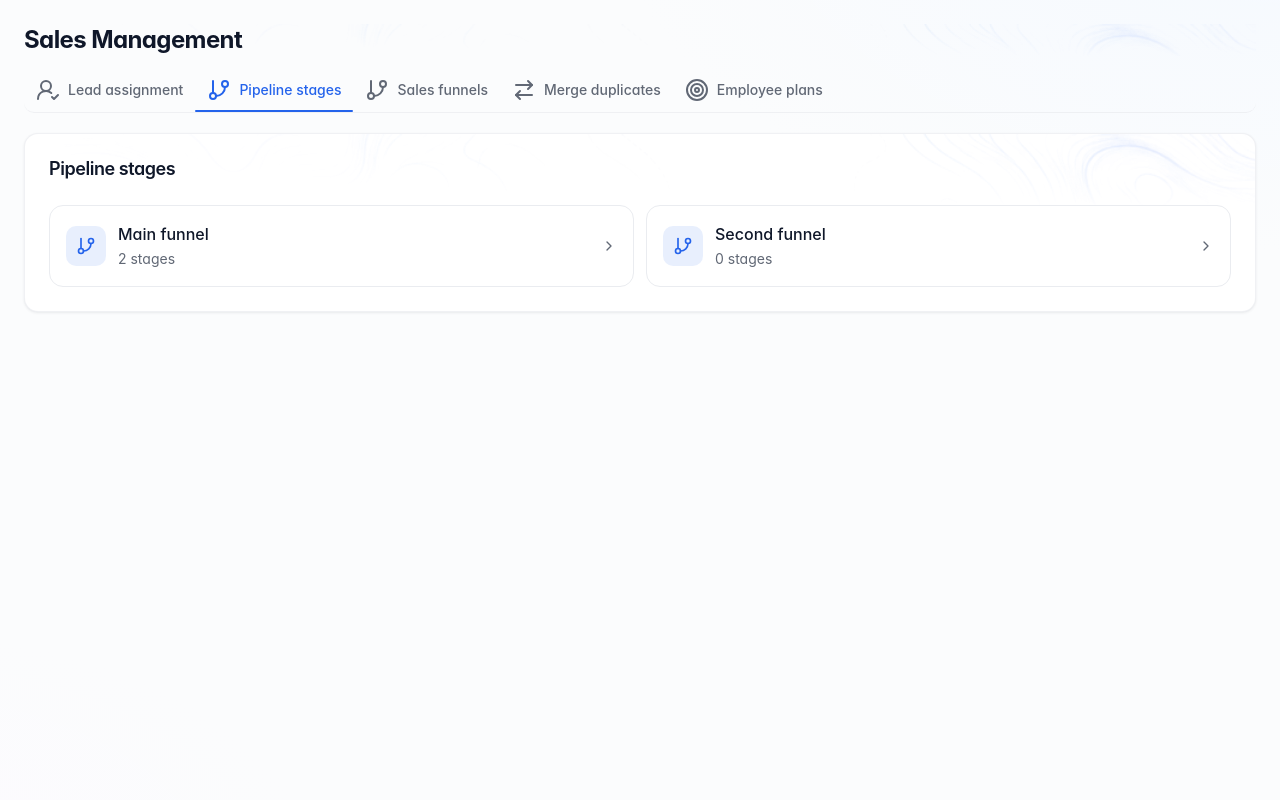
Test case: academy resource editors › keeps the current funnel open and locks stage actions while delete usage is being checked
Click the button "Main funnel 2 stages" at (86, 246), box x1=49 y1=204 x2=634 y2=286
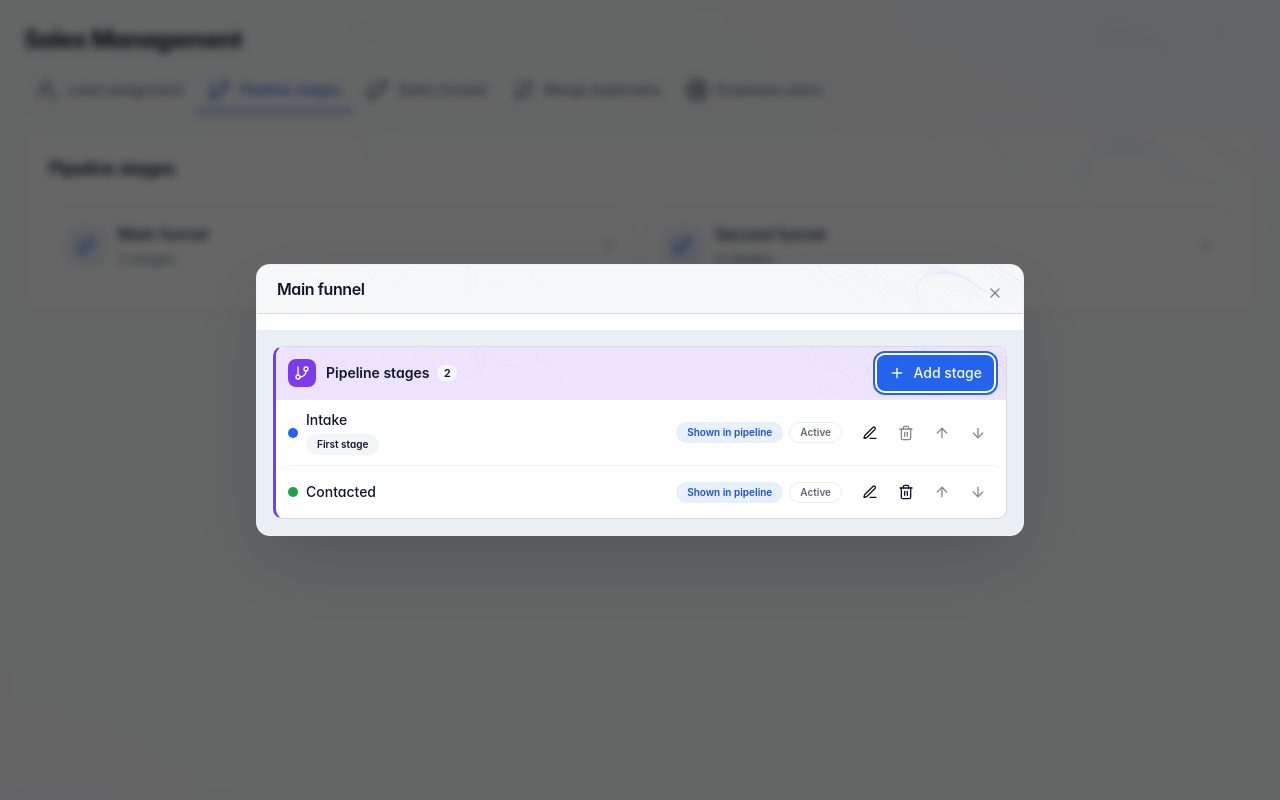
Click the 7th button named "Delete" at (906, 492), box x1=890 y1=476 x2=922 y2=508
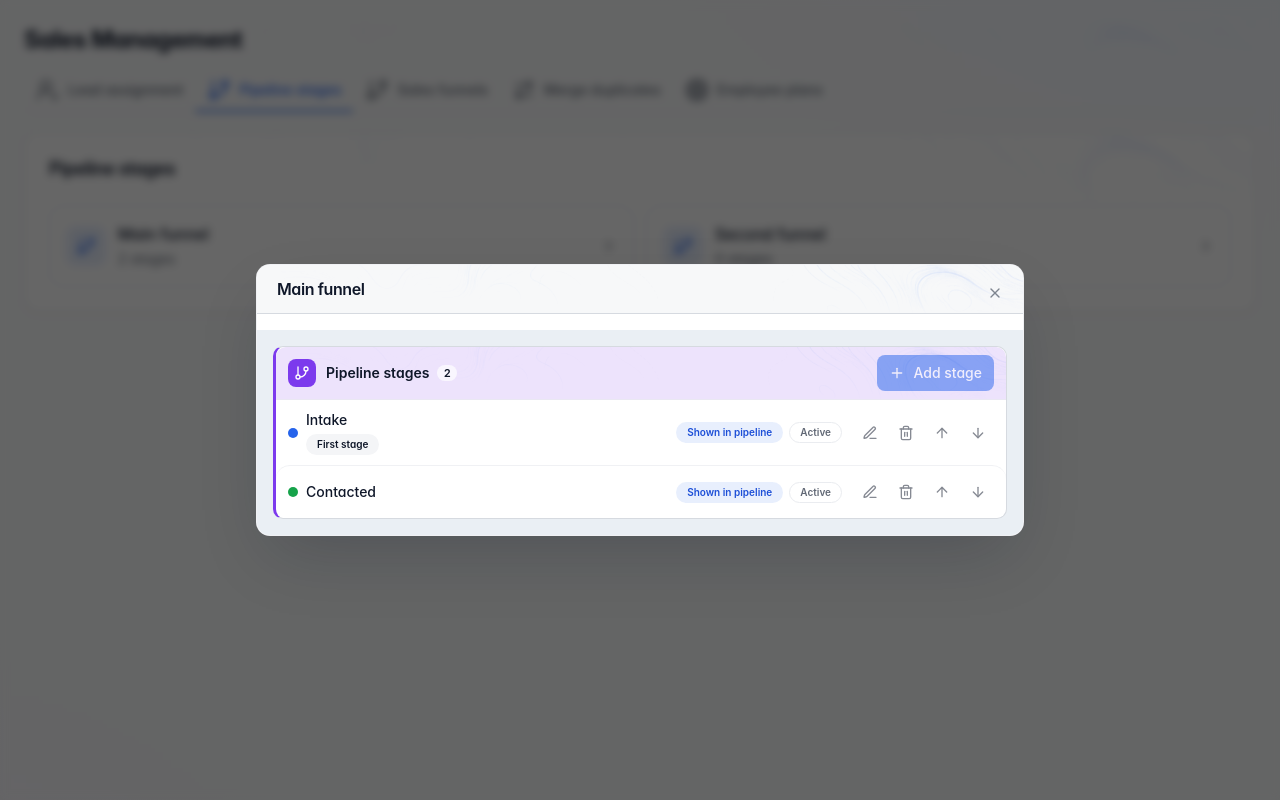
Check: the button "Add stage" is disabled, box x1=877 y1=355 x2=994 y2=391
Press Escape
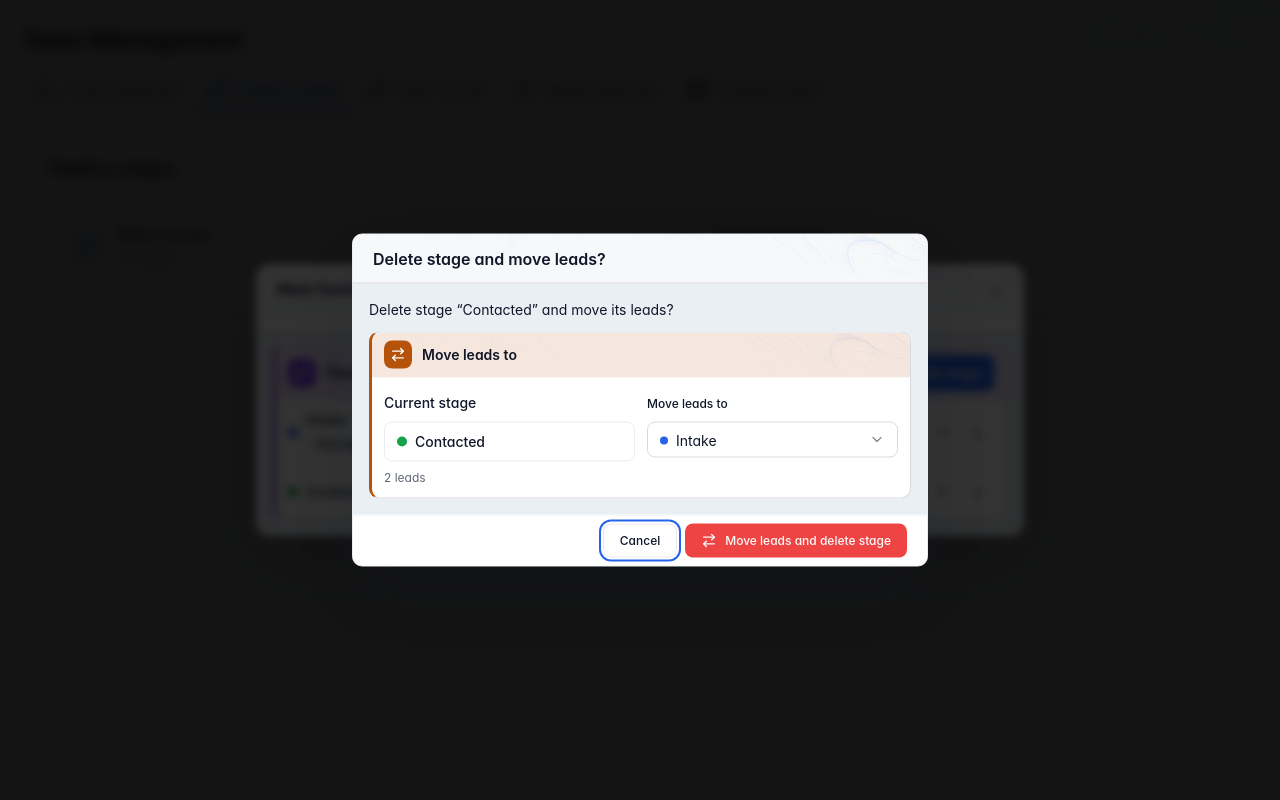
Check: the dialog "Main funnel" is shown, box x1=256 y1=264 x2=1024 y2=536
Check: the dropdown named "Move leads to" reads "Intake", box x1=647 y1=422 x2=898 y2=458
